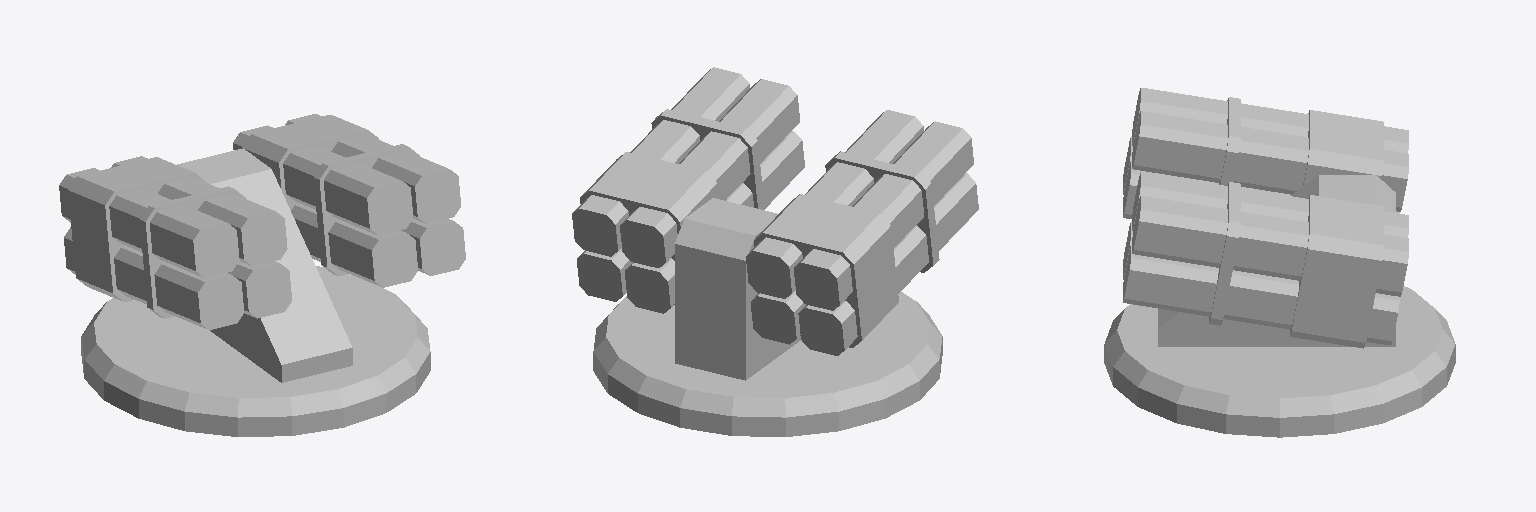
Rendered from Torpedo_launcher.obj.
3 renders of one model, left to right at view 1: azimuth 30°, elevation 25°; view 2: azimuth 150°, elevation 25°; view 3: azimuth 270°, elevation 25°, orthographic.
Visible parts, largest first — view 1: Cylinder001; view 2: Cylinder001; view 3: Cylinder001.
Boxes of the visible parts, <box> form: Cylinder001: <box>59,114,465,436</box>; Cylinder001: <box>572,67,978,436</box>; Cylinder001: <box>1104,88,1455,437</box>.
Bounding box in the file's own units: 0.6976 × 0.4714 × 0.6976.